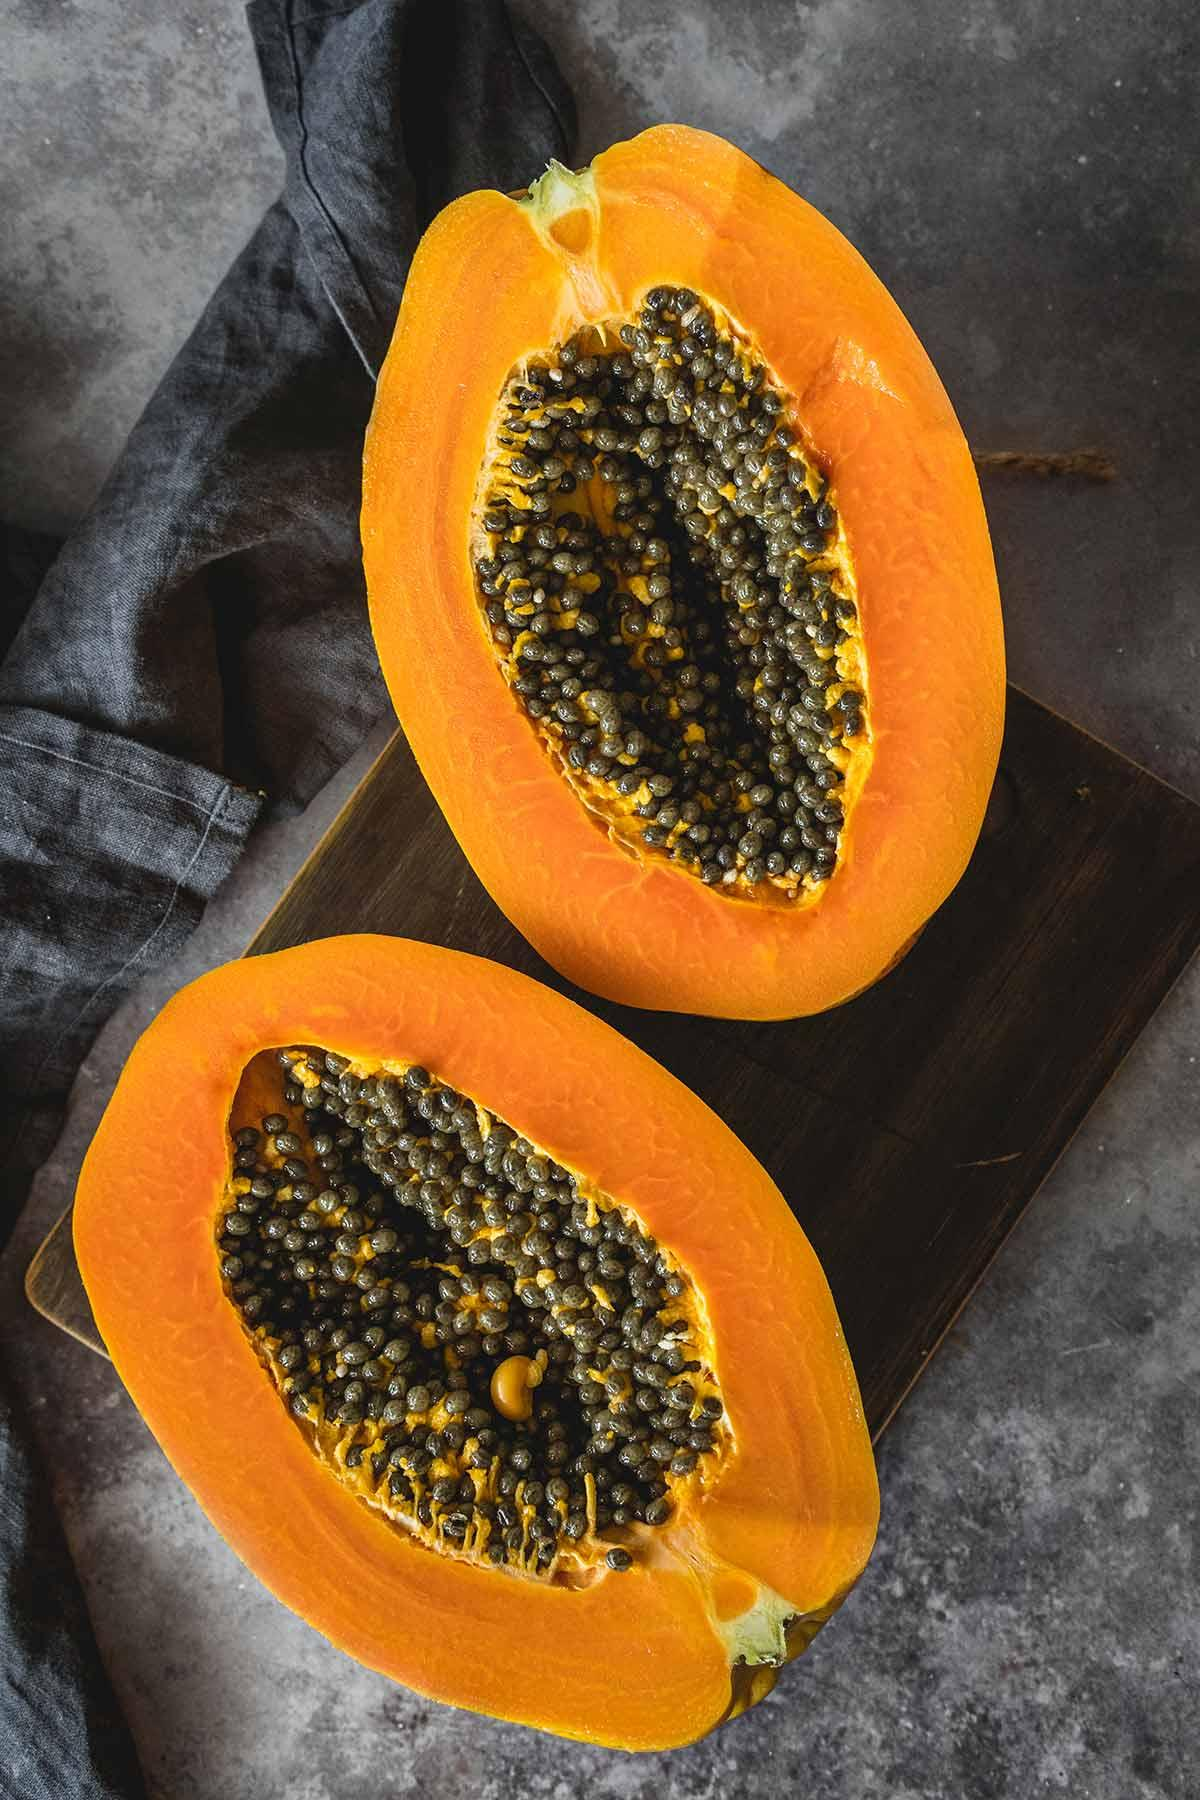papaya: (33, 917, 904, 1793), (347, 107, 1027, 1051)
